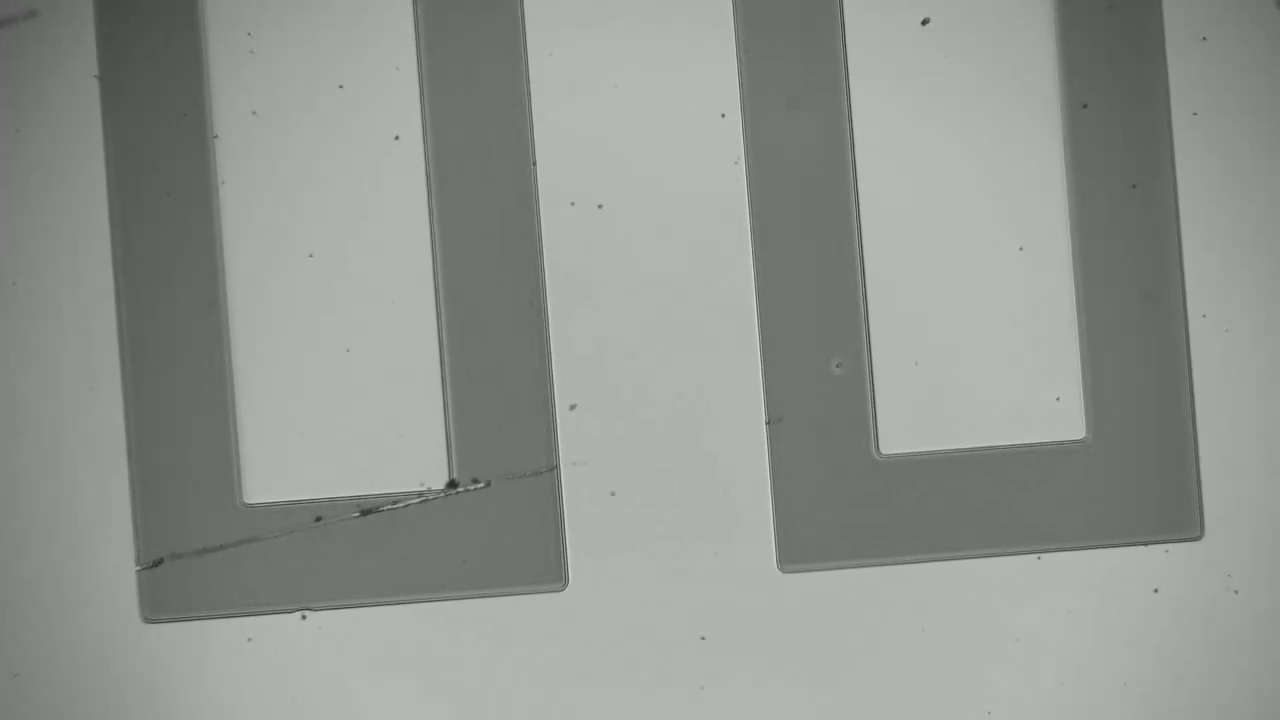scratch: (150, 464, 556, 567)
